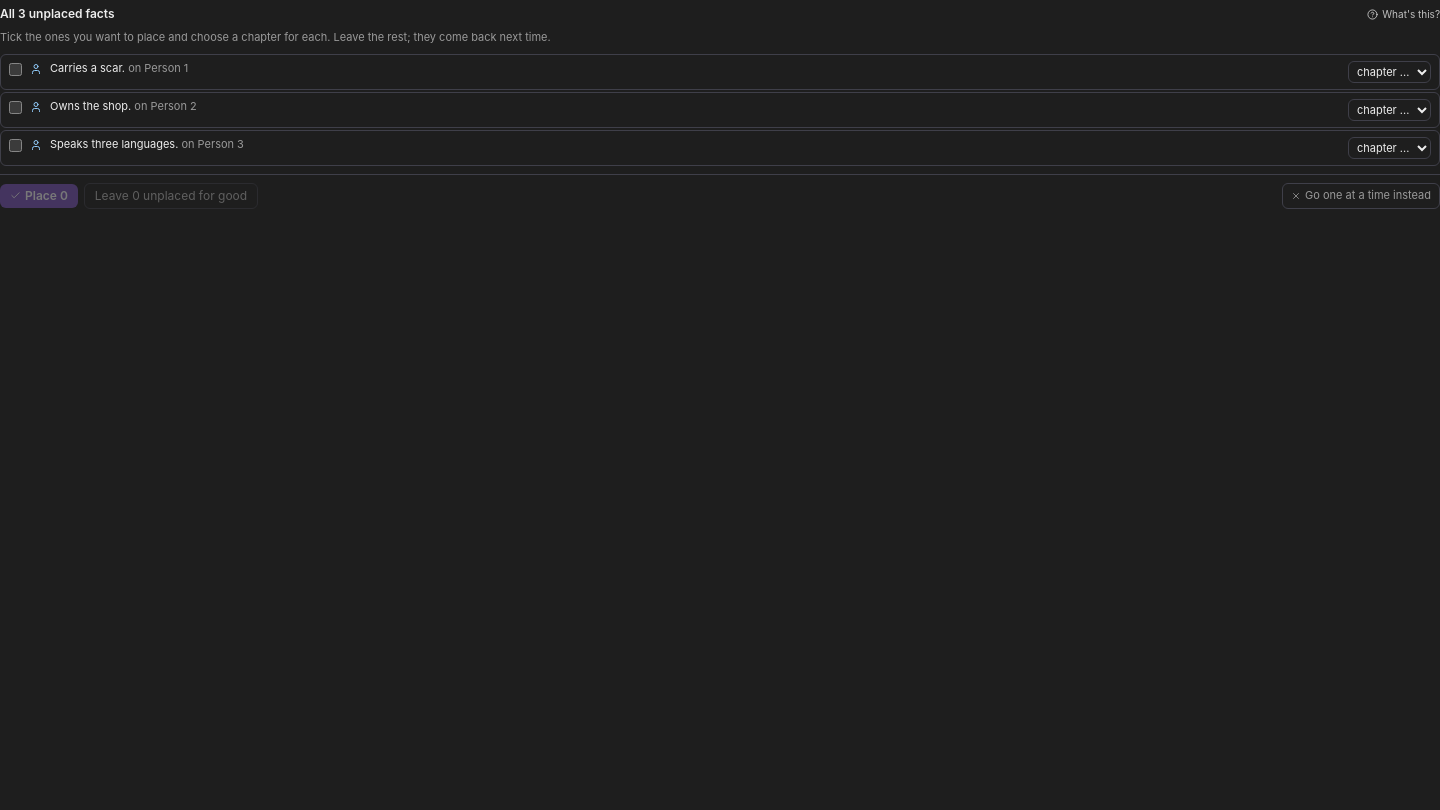
Test: the unplaced list › says out loud when a ticked row has no chapter yet
Step 1. Click the checkbox named "Carries a scar." → (16, 69), box [9, 63, 22, 76]
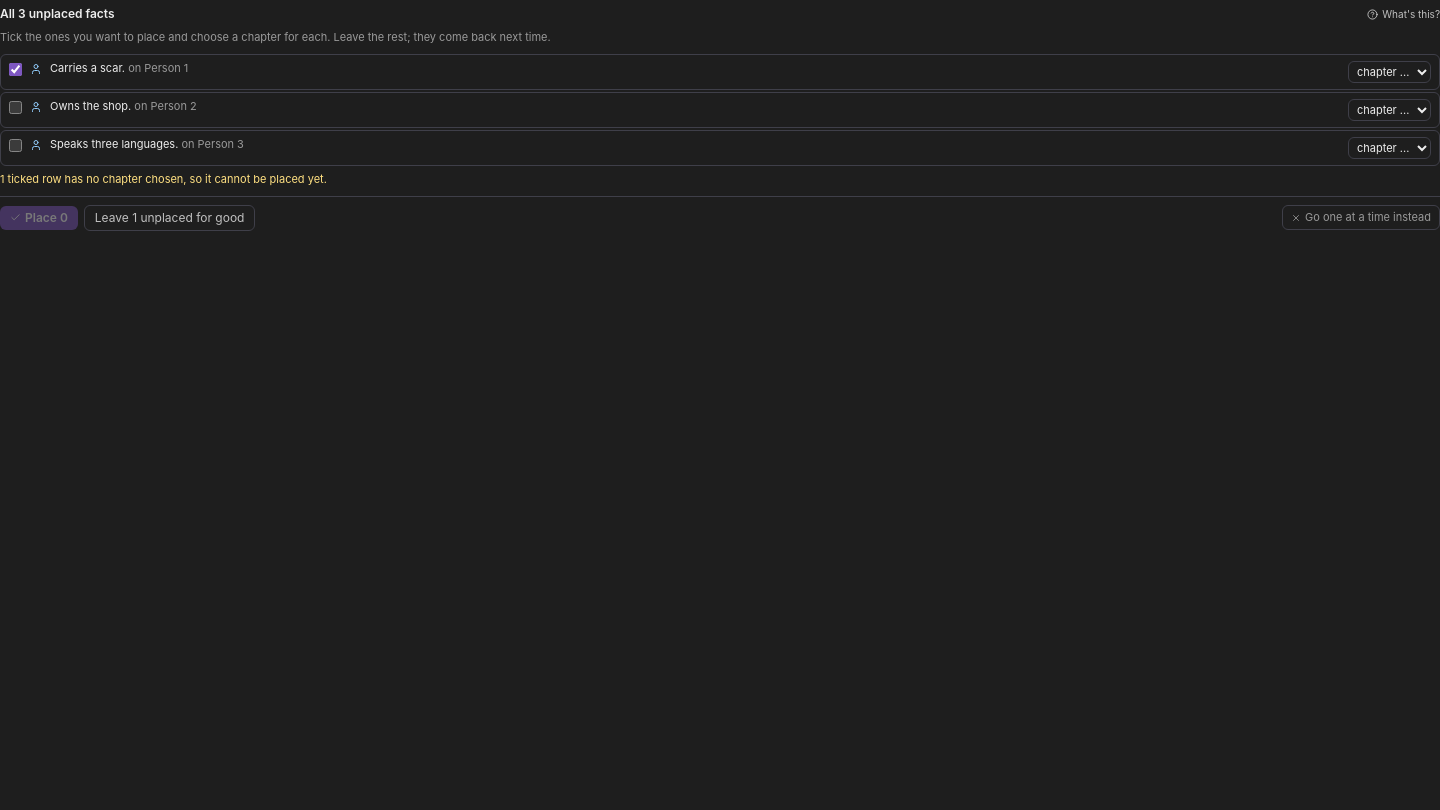
Expected: the button with test id "sweep-place" reads "Place 0", [0, 206, 78, 230]
Expected: the text with test id "sweep-no-chapter" shows "1 ticked", [0, 172, 327, 186]
